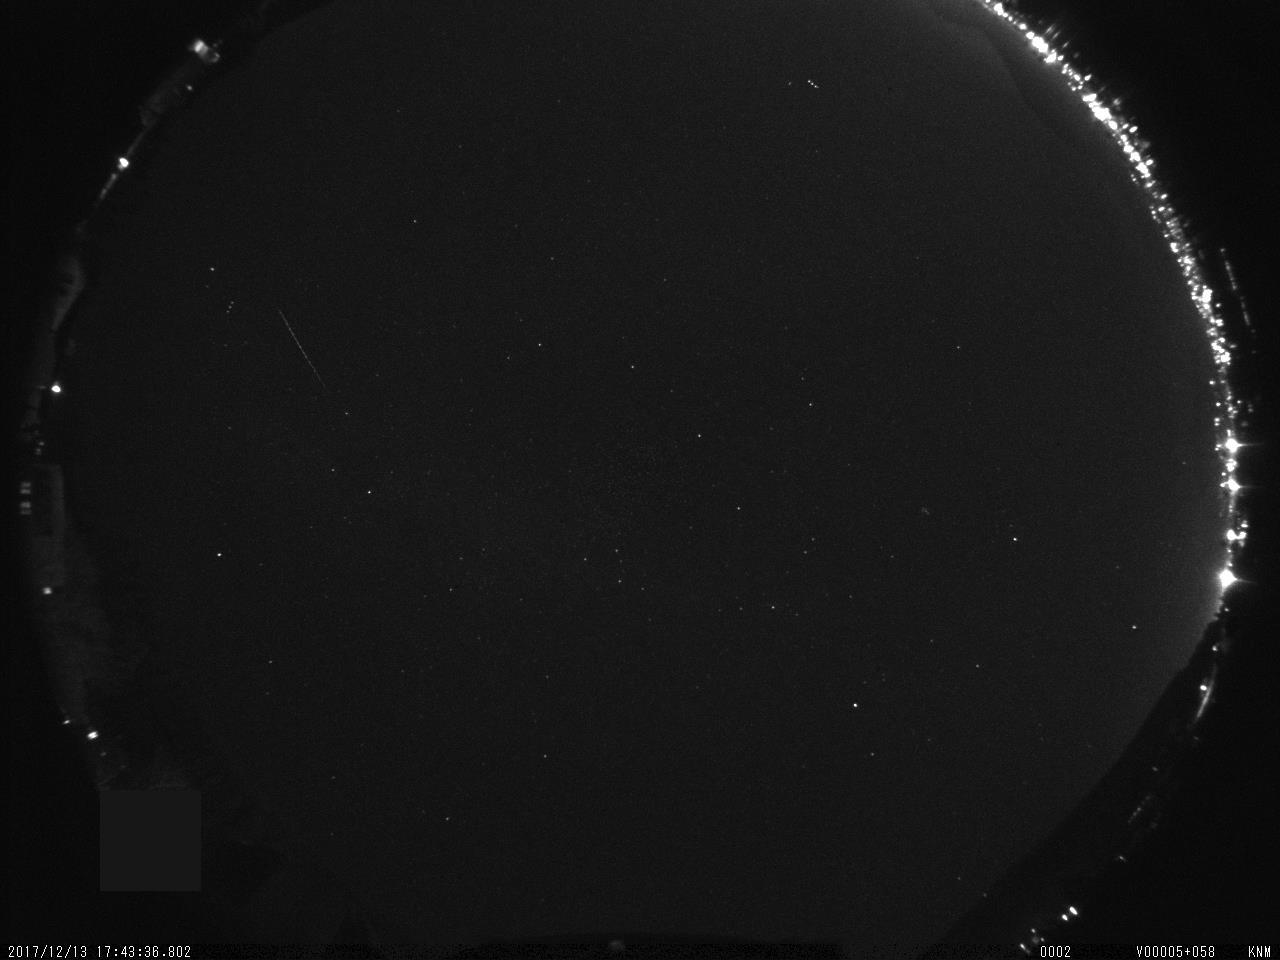meteor: (269, 300, 339, 403)
